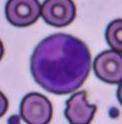M: (30, 32, 92, 95)
